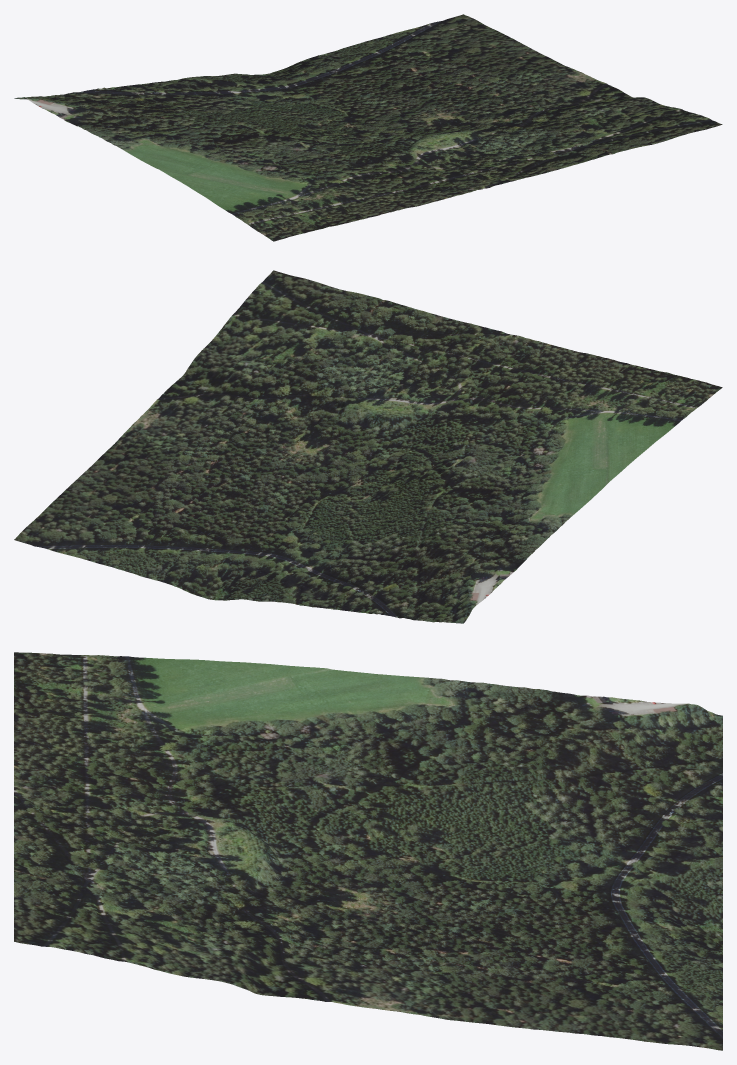
Rendered from terrain_3_1.glb.
3 views of the same model, one above another, from view 1: azimuth 30°, elevation 25°; view 2: azimuth 150°, elevation 25°; view 3: azimuth 270°, elevation 25° (orthographic). The views are drawn at different scales.
Parts seen in each view (by area): view 1: geometry_0; view 2: geometry_0; view 3: geometry_0.
Boxes of the visible parts, x1,y1,x2,y2 form: geometry_0: (14,14,722,241); geometry_0: (14,270,722,623); geometry_0: (14,652,722,1050).
Size of the model in its own units: 499 by 97.24 by 499.
1 material, 1 textured.
